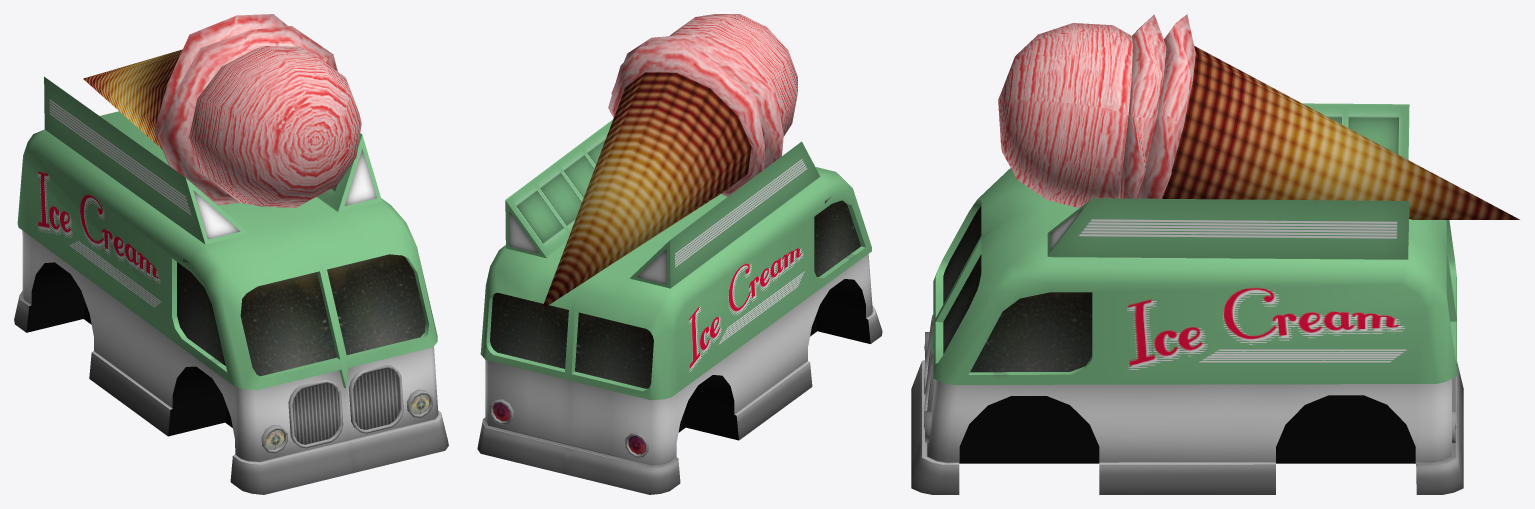
Rendered from Car-IceCream.fbx.
The picture shows the model from 3 angles, left to right: view 1: azimuth 30°, elevation 25°; view 2: azimuth 150°, elevation 25°; view 3: azimuth 270°, elevation 25°; orthographic projection. The views are drawn at different scales.
Parts seen in each view (by area): view 1: IceCreamTruck_MAIN_UVd:IceCreamTruck_MAIN_UVd:polySurface2; view 2: IceCreamTruck_MAIN_UVd:IceCreamTruck_MAIN_UVd:polySurface2; view 3: IceCreamTruck_MAIN_UVd:IceCreamTruck_MAIN_UVd:polySurface2.
Part boxes in pixels (x1,y1,x2,y2): IceCreamTruck_MAIN_UVd:IceCreamTruck_MAIN_UVd:polySurface2: [14, 14, 448, 494]; IceCreamTruck_MAIN_UVd:IceCreamTruck_MAIN_UVd:polySurface2: [477, 14, 882, 494]; IceCreamTruck_MAIN_UVd:IceCreamTruck_MAIN_UVd:polySurface2: [911, 14, 1519, 494].
Size of the model in its own units: 0.4194 by 0.7232 by 0.9608.
